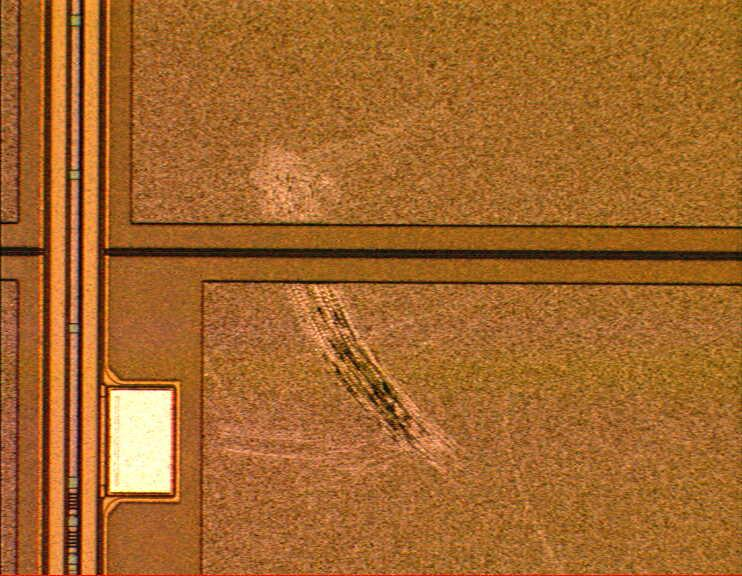SCRATCH: (210, 146, 577, 576)
